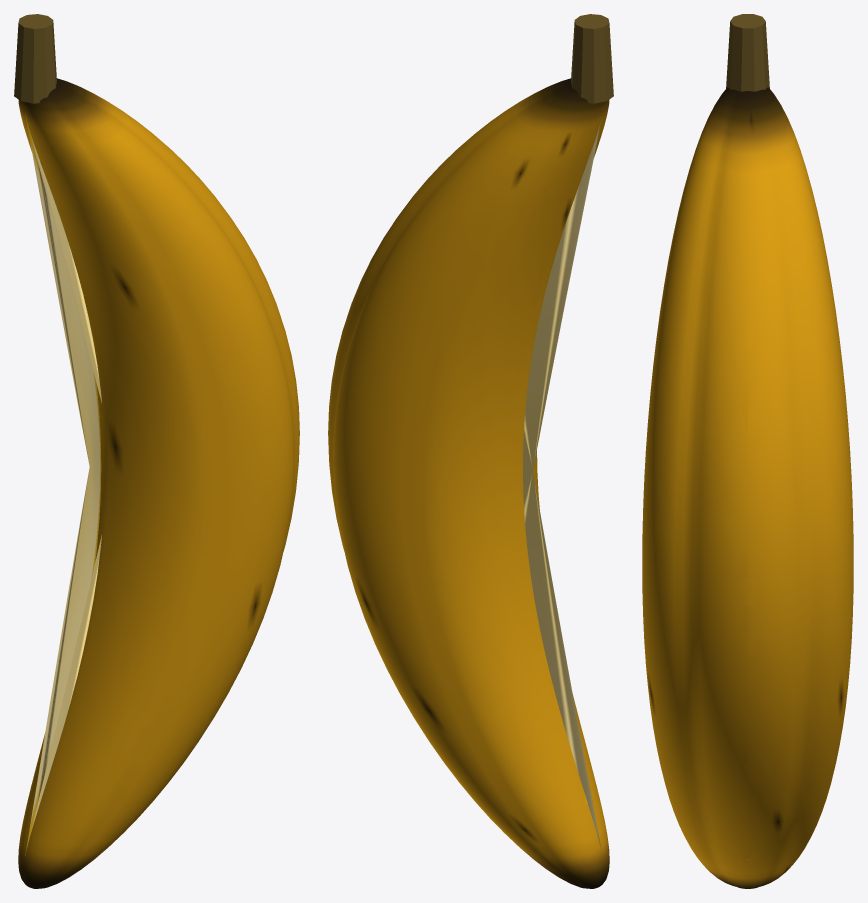
The model's file is banane.glb.
3 renders of one model, left to right at view 1: azimuth 30°, elevation 25°; view 2: azimuth 150°, elevation 25°; view 3: azimuth 270°, elevation 25°, orthographic.
Parts seen in each view (by area): view 1: entier_peau, moitie_B_peau, moitie_B_chair, moitie_A_chair, entier_extra0; view 2: entier_peau, moitie_A_peau, moitie_B_chair, entier_extra0; view 3: entier_peau, moitie_A_peau, moitie_B_peau, entier_extra0.
Boxes of the visible parts, x1,y1,x2,y2 form: entier_peau: (18, 78, 299, 888); moitie_B_peau: (23, 80, 299, 888); moitie_B_chair: (25, 114, 101, 855); moitie_A_chair: (28, 126, 101, 839); entier_extra0: (14, 14, 56, 103); entier_peau: (328, 78, 609, 888); moitie_A_peau: (328, 81, 604, 887); moitie_B_chair: (523, 117, 602, 854); entier_extra0: (571, 14, 613, 103); entier_peau: (642, 87, 853, 888); moitie_A_peau: (748, 88, 853, 887); moitie_B_peau: (642, 89, 747, 886); entier_extra0: (726, 14, 769, 91).
Bounding box in the file's own units: 0.7076 × 2.14 × 0.4752.
